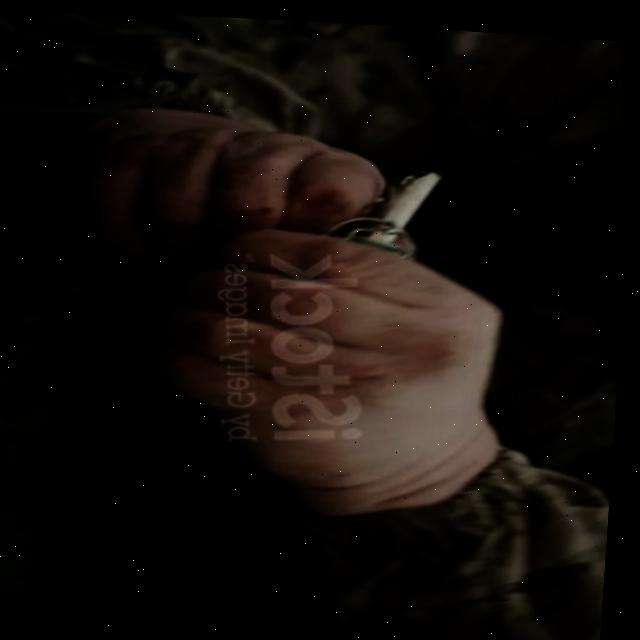grenade: (323, 146, 454, 261)
